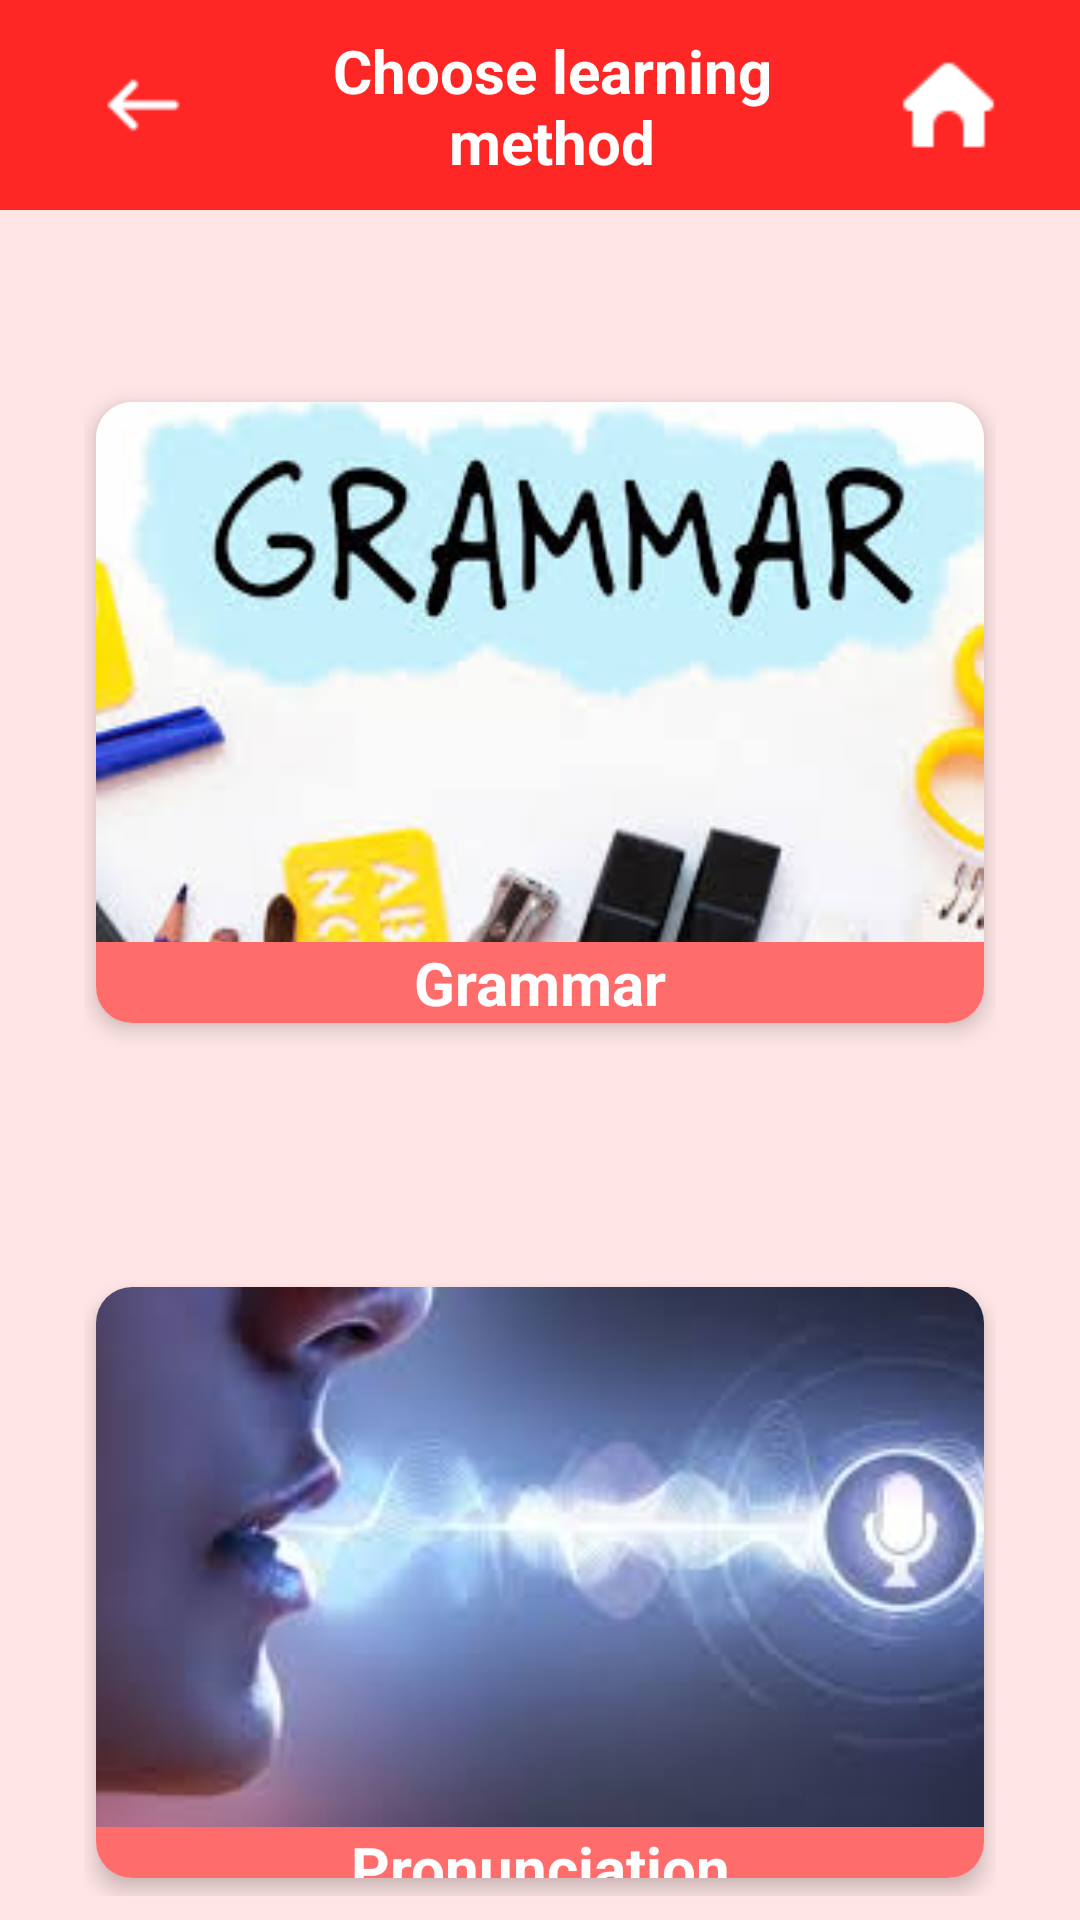

Named icons in this screenshot (1080w x 1920h) and their bounding boxes, (x1, y1, x2, y2):
backward: (107, 79, 180, 131)
home: (902, 62, 995, 148)
